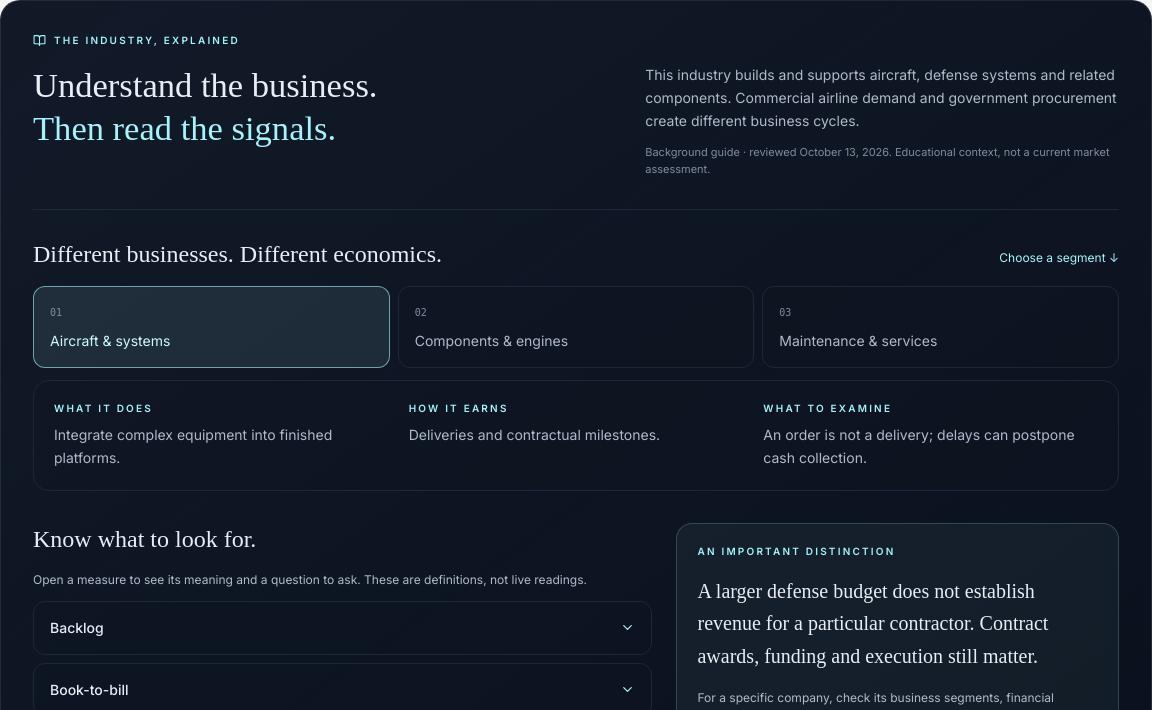
Test: provides a usable distinct guide for aerospace-defense even without reporting
The image size is (1152, 710).
Click the button "02 Components & engines". click: (491, 341)
box: [398, 286, 754, 368]
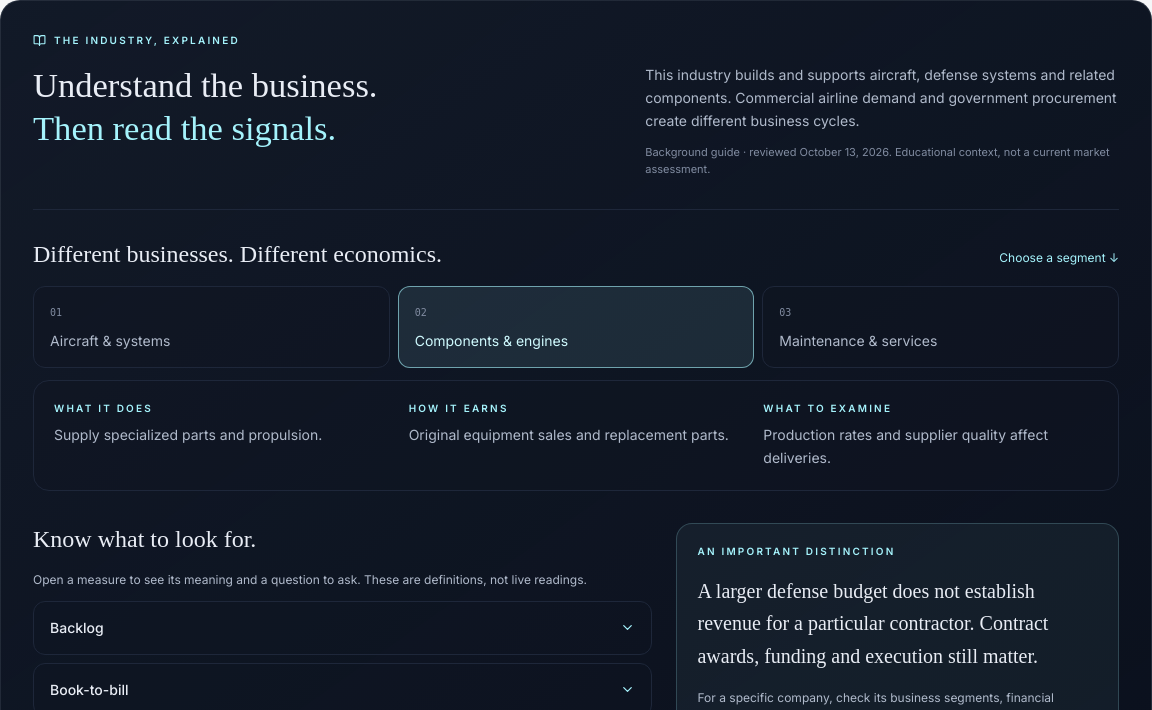
expect the text "definitions, not live readings" is shown: met, box [33, 572, 587, 587]
expect the text "Original equipment sales and replacement parts." is shown: met, box [409, 424, 743, 447]
expect the text "Deliveries and contractual milestones." is gone: met
